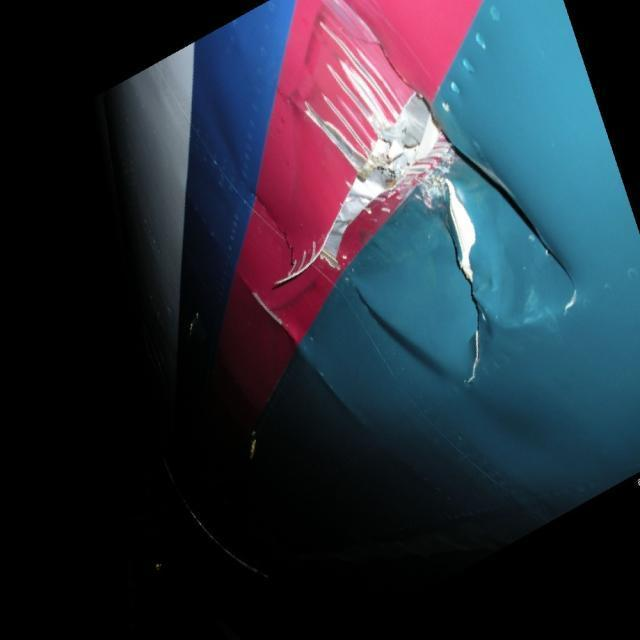crack: (443, 177, 482, 387)
dent: (357, 289, 456, 384), (498, 240, 530, 320)
